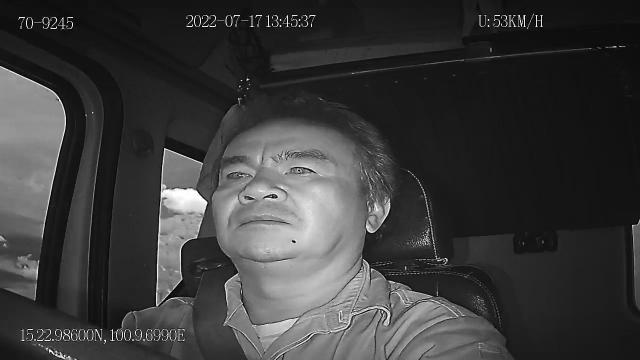SafeDriving: (278, 156, 324, 182), (217, 160, 256, 187)
Seatbelt: (190, 264, 250, 360)
